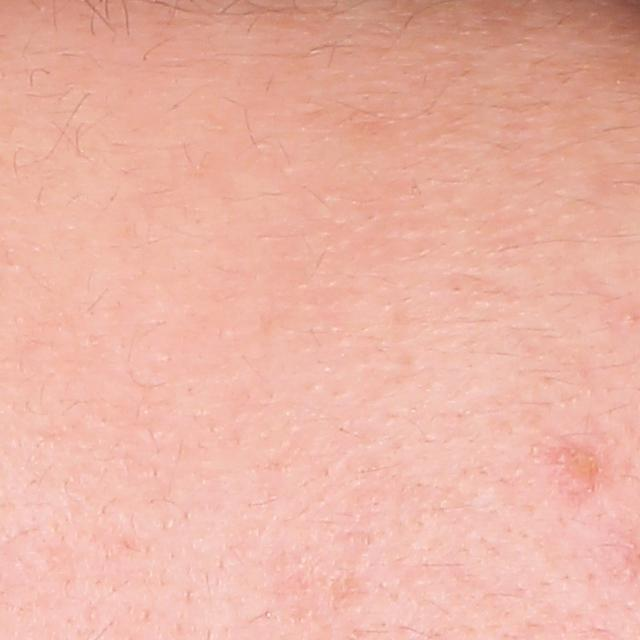papule: (546, 436, 603, 508)
